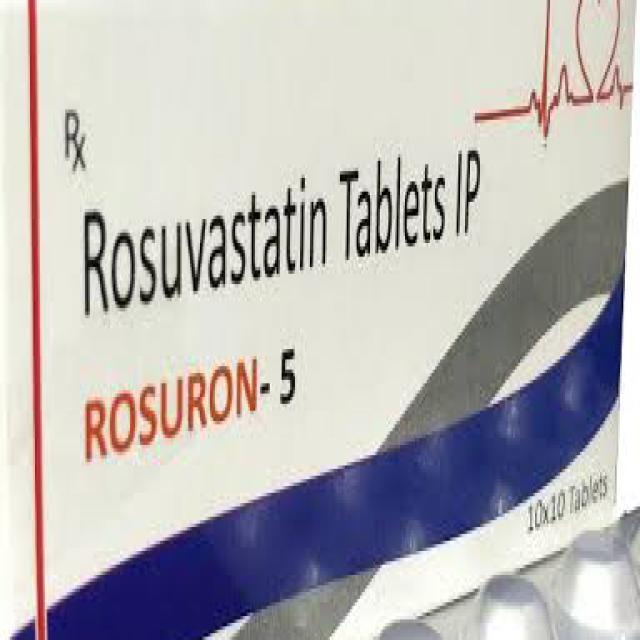drug-name: (81, 340, 298, 463)
